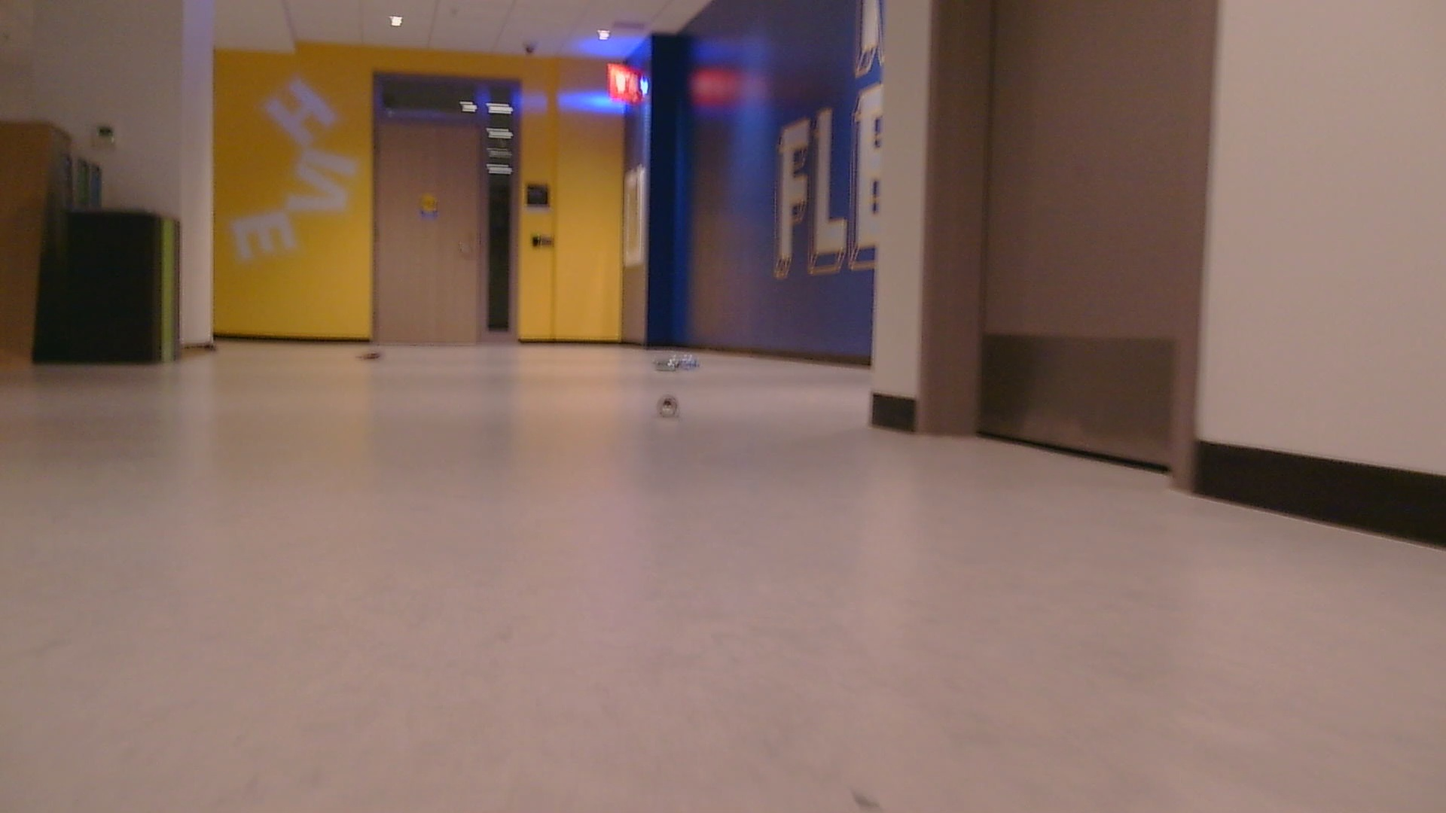carton: (655, 348, 710, 376), (661, 391, 685, 417), (354, 346, 383, 365)
